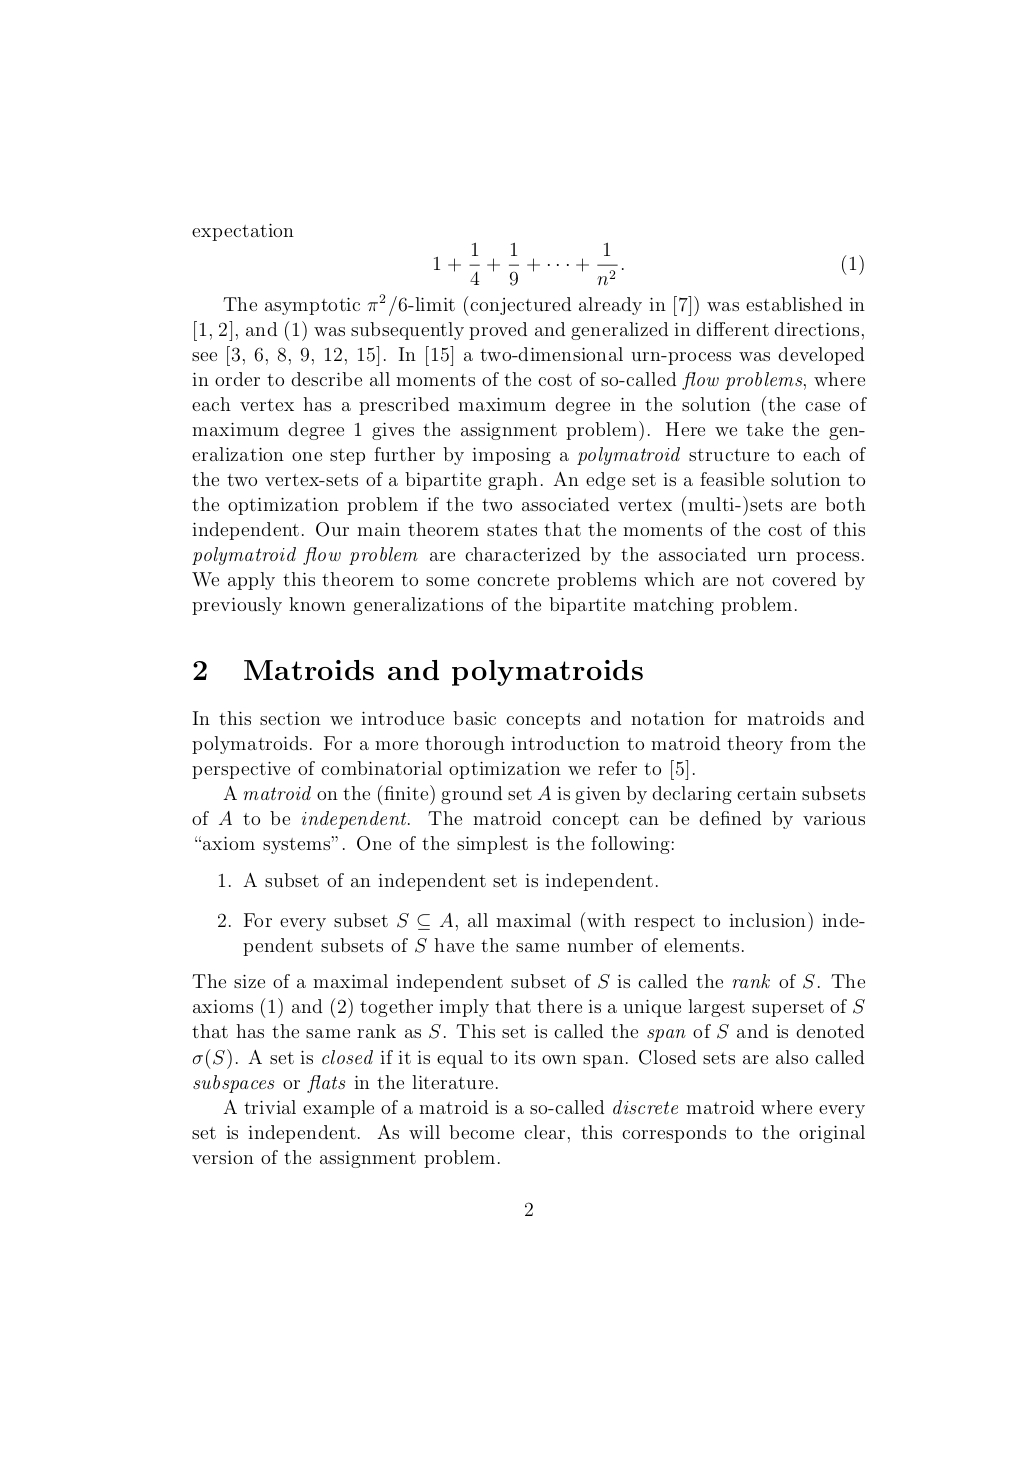formula: (433, 242, 863, 285)
